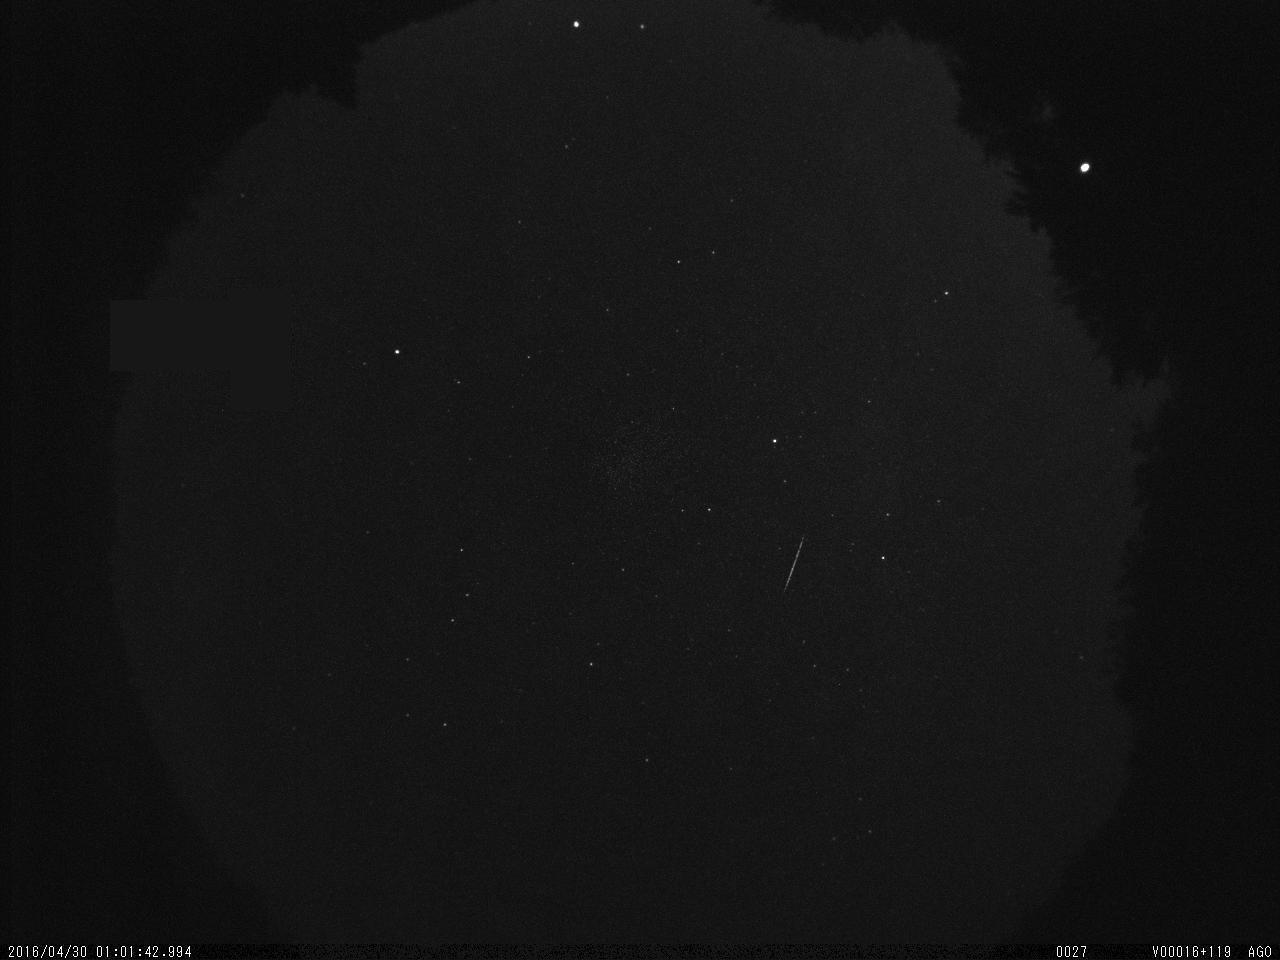Meteor: (778, 522, 811, 610)
